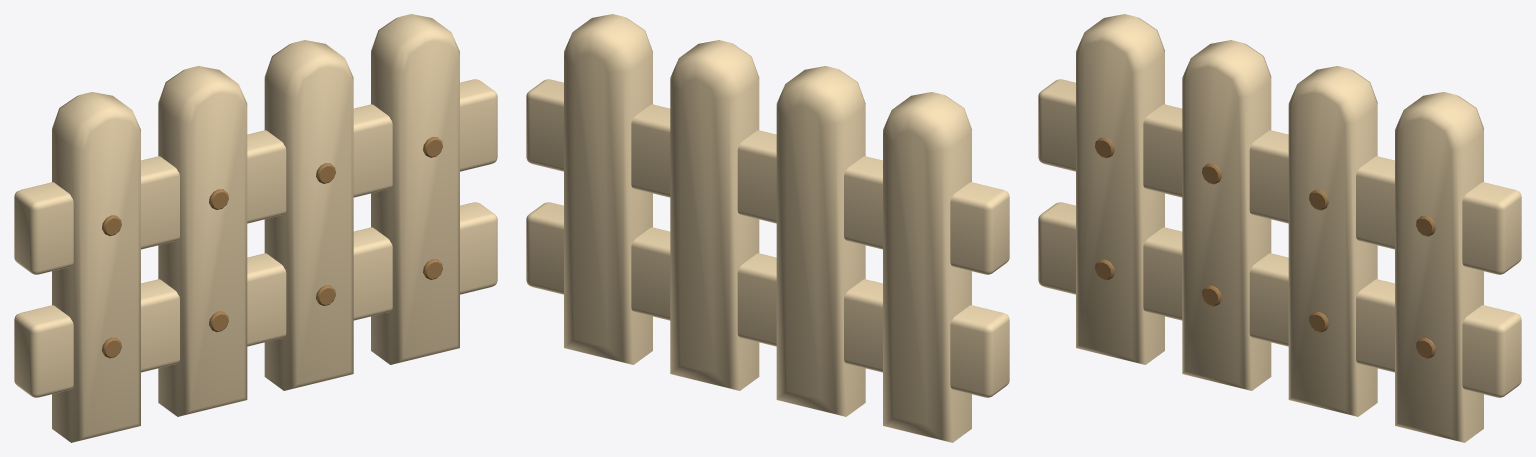
Rendered from Game Wall_2.fbx.
3 views of the same model, side by side, from view 1: azimuth 30°, elevation 25°; view 2: azimuth 150°, elevation 25°; view 3: azimuth 330°, elevation 25° (orthographic).
Visible parts, largest first — view 1: Game Wall_2; view 2: Game Wall_2; view 3: Game Wall_2.
Part boxes in pixels (bbox=[...]): Game Wall_2: bbox=[14, 14, 497, 442]; Game Wall_2: bbox=[526, 14, 1009, 442]; Game Wall_2: bbox=[1038, 14, 1521, 442].
Size of the model in its own units: 0.7059 by 0.4726 by 0.0893.
